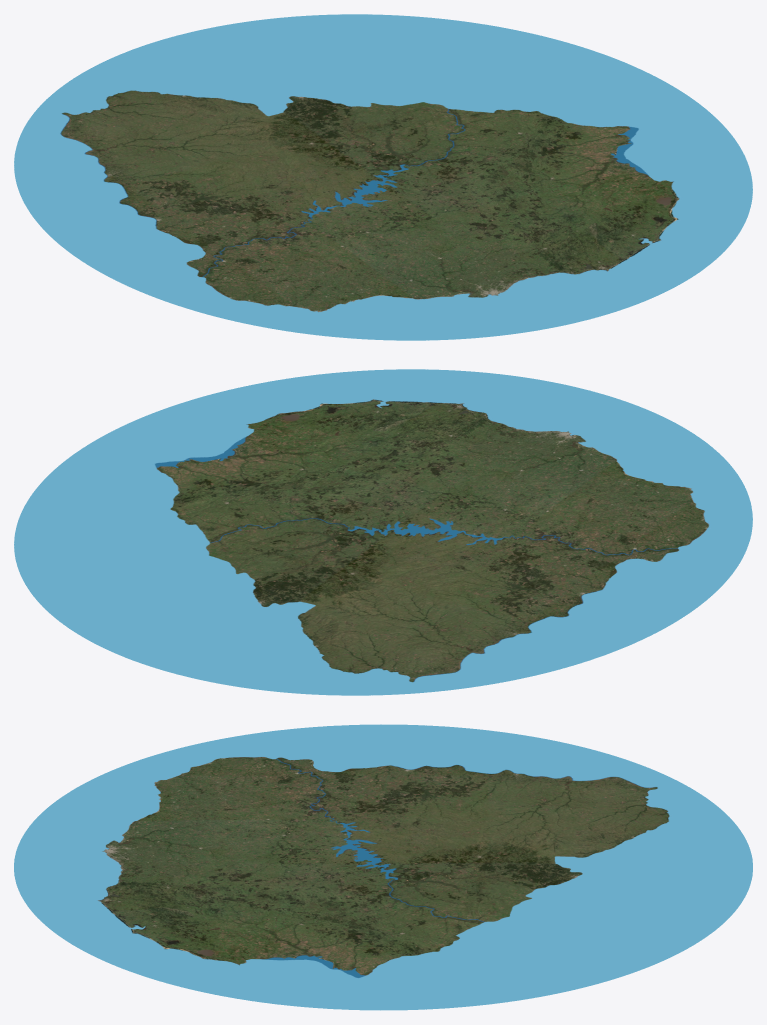
Rendered from URY-previa-terrain.glb.
3 views of the same model, one above another, from view 1: azimuth 30°, elevation 25°; view 2: azimuth 150°, elevation 25°; view 3: azimuth 270°, elevation 25° (orthographic). The views are drawn at different scales.
Visible parts, largest first — view 1: Uruguai; view 2: Uruguai; view 3: Uruguai.
Part boxes in pixels (x1,y1,x2,y2): Uruguai: (14,14,752,340); Uruguai: (14,369,752,695); Uruguai: (14,724,752,1010).
Size of the model in its own units: 2.08 by 0.0133 by 2.27.
Materials: 1 (1 with a texture image).
